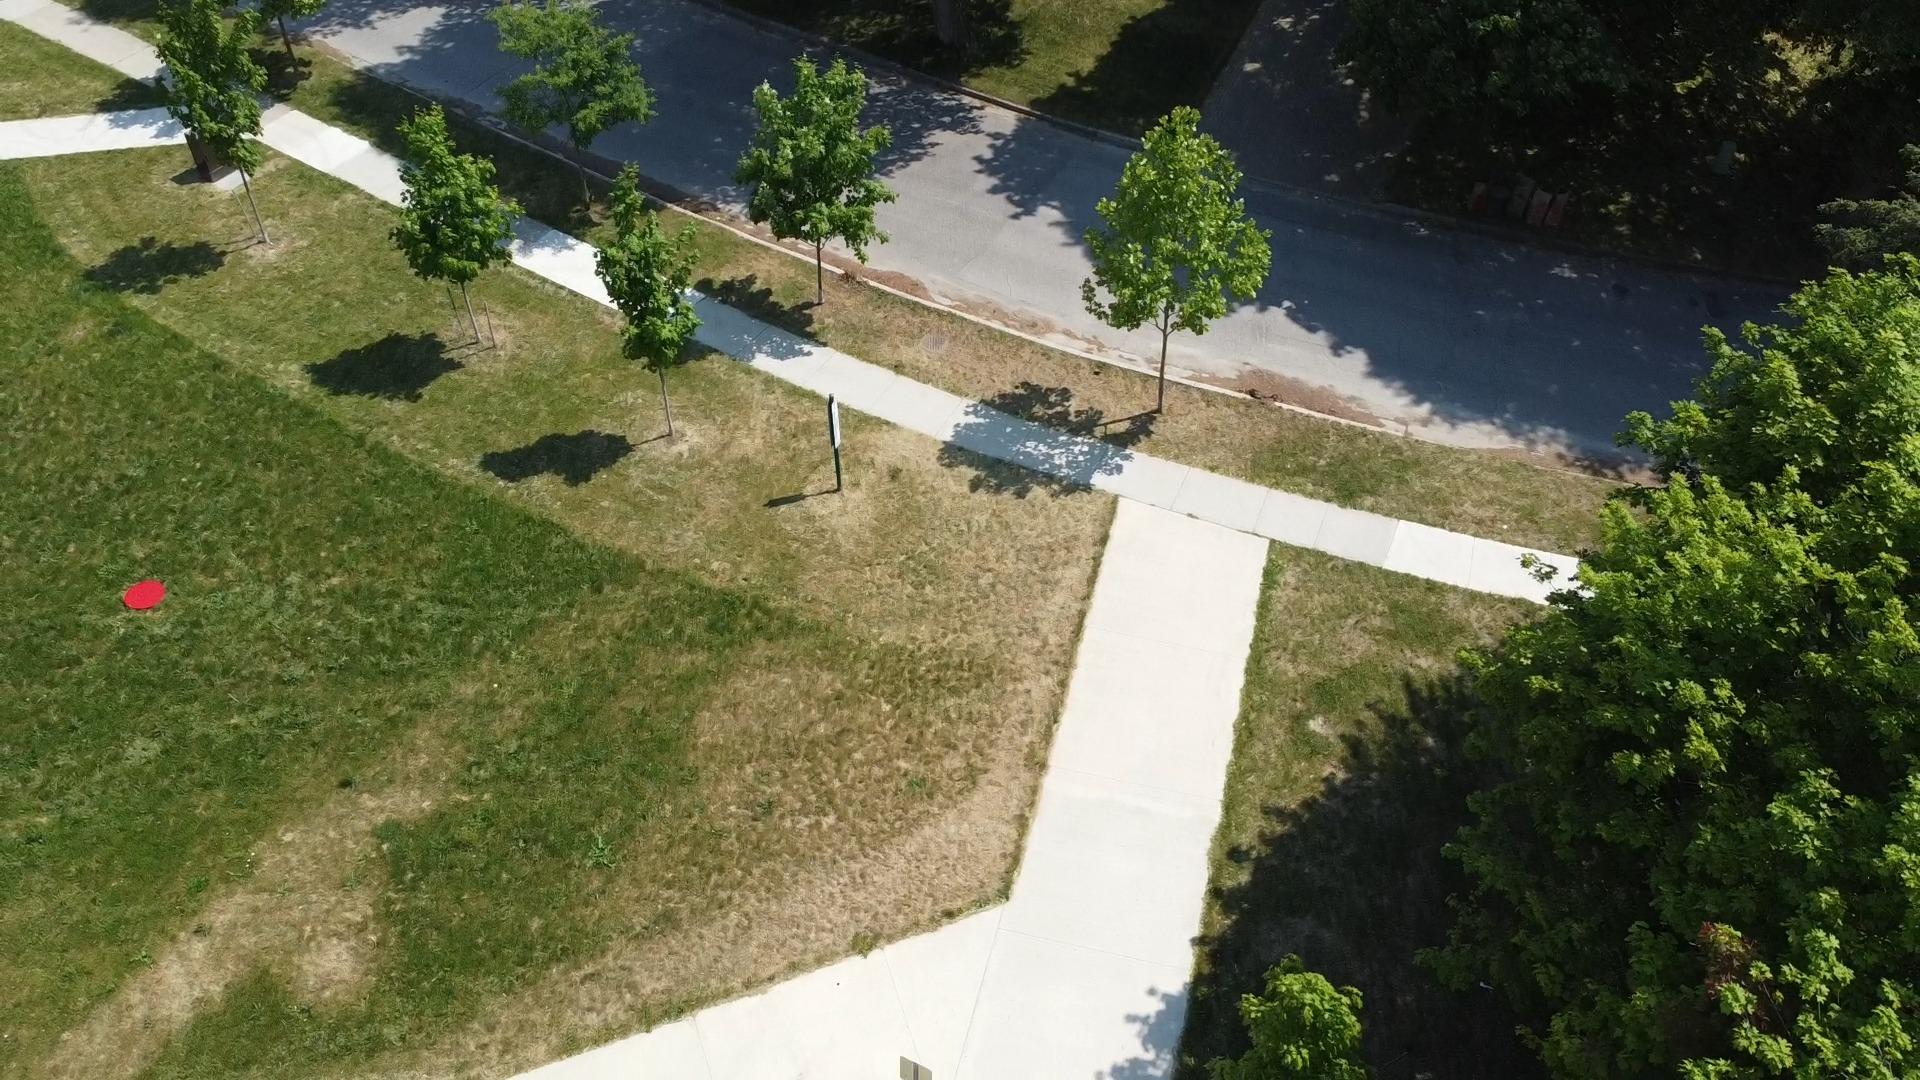Red: (123, 579, 166, 611)
